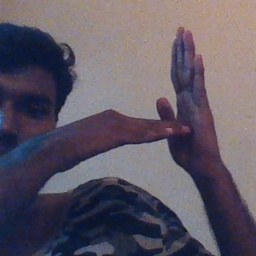Z: (111, 25, 226, 176)
